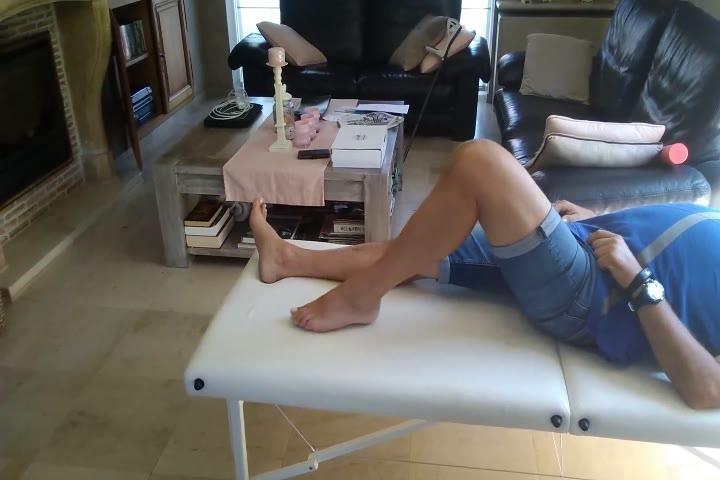lower_body: (237, 134, 616, 360)
